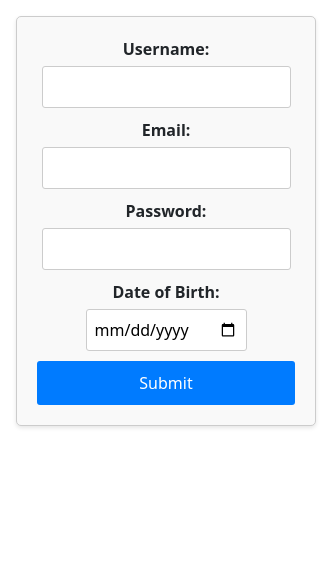
Test: Registration form incorrect data functionality › should display validation error for invalid email
This screenshot has width=333, height=586.
Type "invalidemail" into the field named "email" below "Email:".
click(167, 168); type("invalidemail")  # box [42,147,291,189]
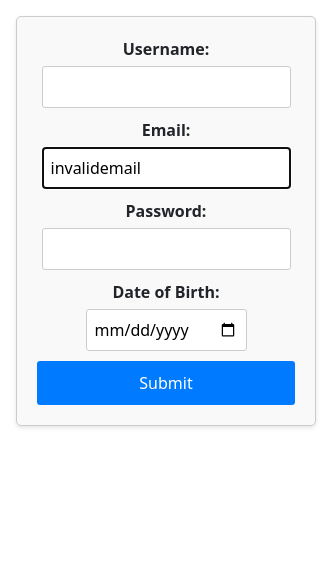
Click the submit button.
click(166, 383)  # box [37,361,295,405]
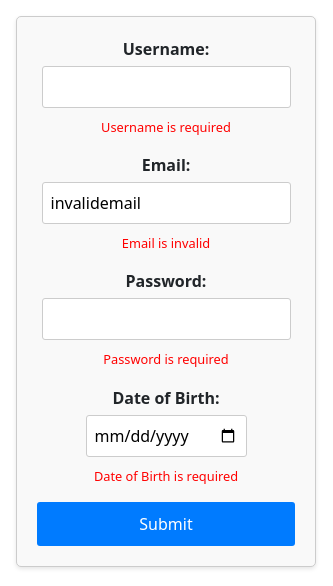
expect the text with class "error" reads "Email is invalid": met, box [122,234,210,252]
